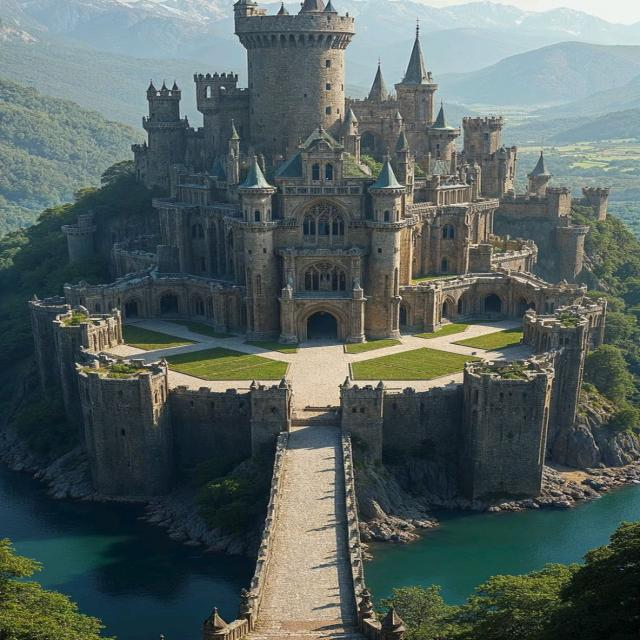castle: (48, 6, 614, 360)
